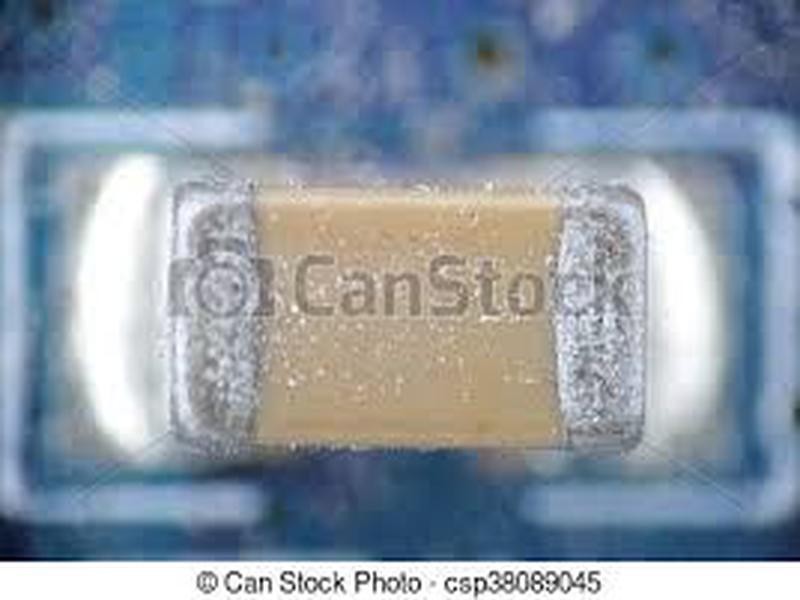SMD capacitor: (164, 148, 664, 489)
